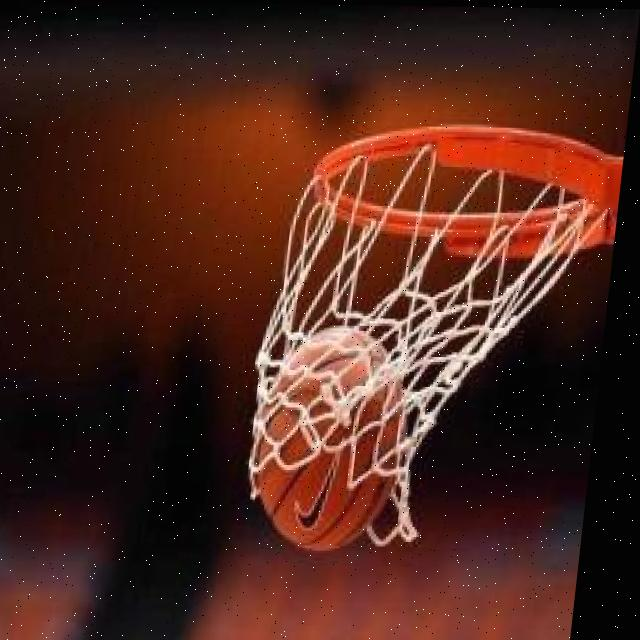basketball: (240, 322, 418, 557)
hoop: (228, 112, 627, 560), (231, 113, 622, 551)
